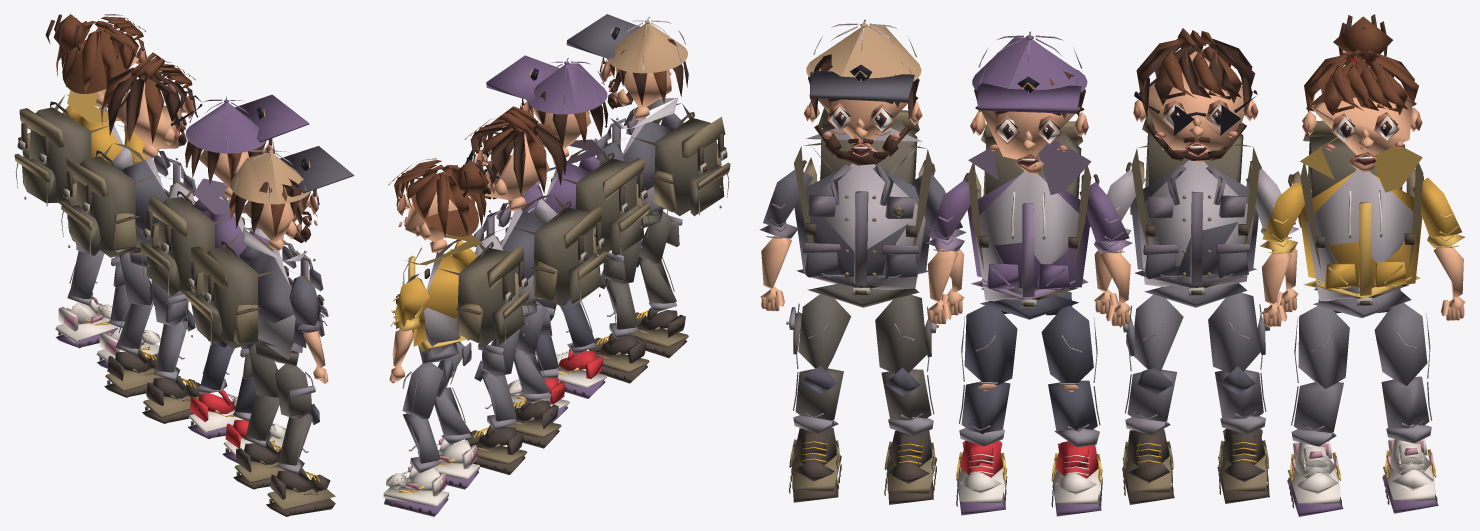
File: npc.survivor-group.lod2.glb
3 views of the same model, side by side, from view 1: azimuth 30°, elevation 25°; view 2: azimuth 150°, elevation 25°; view 3: azimuth 270°, elevation 25° (orthographic). The views are drawn at different scales.
Visible parts, largest first — view 1: head, survivor03_head, survivor02_head, survivor03_backpackSocket_mesh, backpackSocket_mesh, survivor04_head, survivor04_backpackSocket_mesh, torso, survivor02_backpackSocket_mesh, survivor03_torso, footR, survivor04_footL (+23 smaller); view 2: head, survivor02_head, survivor04_head, survivor03_head, backpackSocket_mesh, survivor03_backpackSocket_mesh, survivor04_backpackSocket_mesh, survivor02_backpackSocket_mesh, survivor04_torso, torso, survivor03_torso, survivor04_footL (+25 smaller); view 3: torso, survivor02_torso, survivor04_torso, survivor03_torso, survivor03_head, head, survivor04_head, survivor02_head, survivor03_legL, legL, survivor04_legR, survivor02_legR (+41 smaller).
Part boxes in pixels (x1,y1,x2,y2): head: (229, 146, 354, 250); survivor03_head: (101, 52, 202, 158); survivor02_head: (185, 94, 309, 199); survivor03_backpackSocket_mesh: (61, 150, 139, 257); backpackSocket_mesh: (185, 241, 260, 348); survivor04_head: (45, 14, 146, 109); survivor04_backpackSocket_mesh: (14, 101, 91, 206); torso: (228, 227, 328, 359); survivor02_backpackSocket_mesh: (140, 191, 214, 296); survivor03_torso: (101, 143, 195, 255); footR: (266, 468, 335, 516); survivor04_footL: (55, 296, 118, 348); head: (566, 14, 688, 119); survivor02_head: (486, 55, 608, 157); survivor04_head: (388, 158, 495, 252); survivor03_head: (464, 106, 566, 210); backpackSocket_mesh: (650, 112, 730, 216); survivor03_backpackSocket_mesh: (531, 201, 607, 305); survivor04_backpackSocket_mesh: (456, 242, 529, 346); survivor02_backpackSocket_mesh: (575, 152, 650, 256); survivor04_torso: (393, 234, 485, 357); torso: (593, 97, 691, 215); survivor03_torso: (474, 194, 565, 305); survivor04_footL: (383, 465, 449, 516); torso: (794, 127, 932, 289); survivor02_torso: (967, 139, 1091, 301); survivor04_torso: (1299, 137, 1423, 301); survivor03_torso: (1131, 144, 1259, 287); survivor03_head: (1133, 28, 1258, 161); head: (804, 19, 922, 165); survivor04_head: (1302, 14, 1422, 172); survivor02_head: (970, 31, 1088, 174); survivor03_legL: (1208, 292, 1269, 372); legL: (875, 294, 938, 373); survivor04_legR: (1294, 306, 1349, 388); survivor02_legR: (961, 305, 1017, 385).
Size of the model in its own units: 0.8552 by 1.77 by 2.48.
